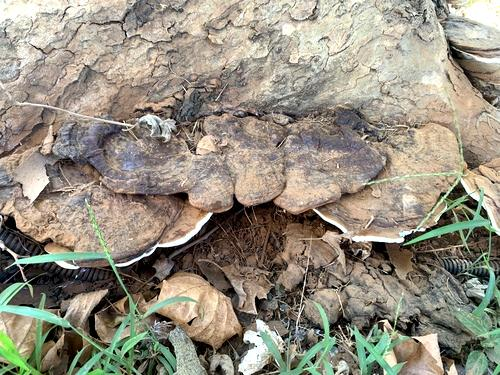Ganoderma - Fruit Body: (9, 156, 181, 270), (187, 164, 373, 213), (313, 212, 454, 252)
